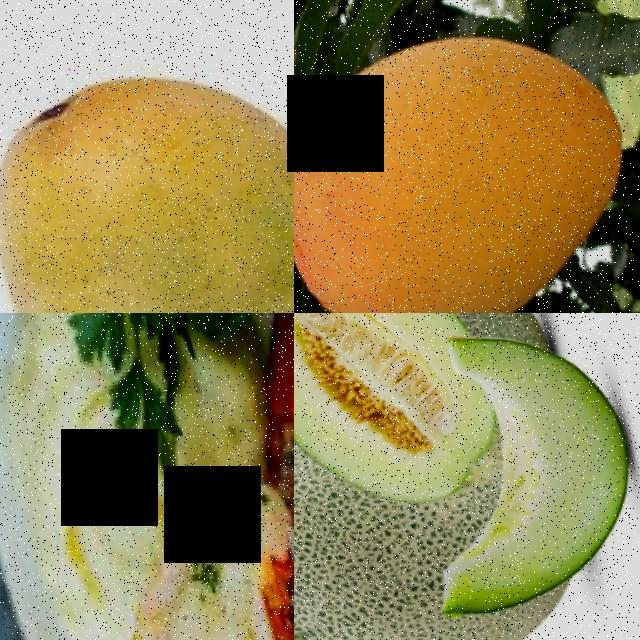lobster tails: (142, 422, 294, 640)
mango: (294, 0, 640, 313), (0, 6, 294, 313)
melon: (415, 436, 640, 633), (294, 313, 509, 495), (294, 467, 475, 640)
